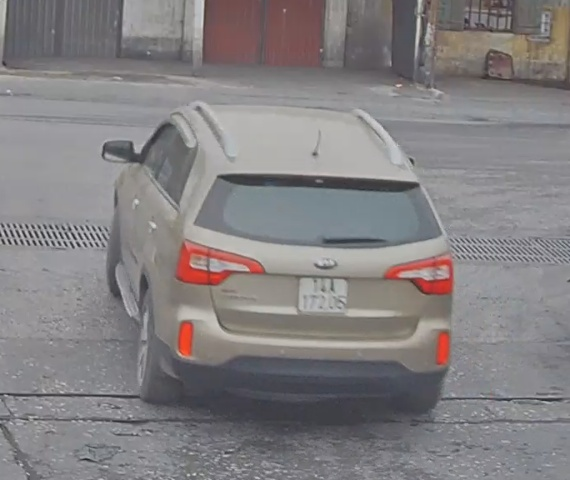vehicle plate: (298, 274, 349, 316)
